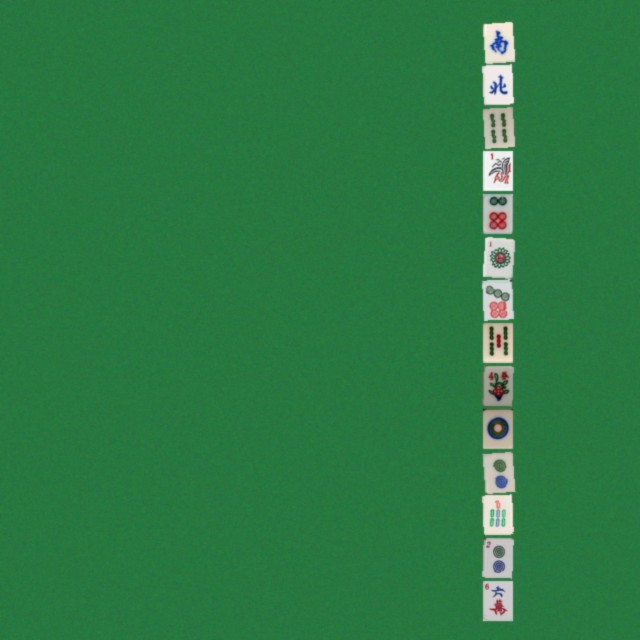tile: (482, 21, 512, 61), (482, 64, 512, 104), (482, 107, 512, 147), (482, 150, 512, 190), (482, 193, 512, 233), (482, 236, 512, 276), (482, 279, 512, 319), (482, 322, 512, 362), (482, 365, 512, 405), (482, 408, 512, 448), (482, 451, 512, 491), (482, 494, 512, 534), (482, 537, 512, 577), (482, 580, 512, 620)
